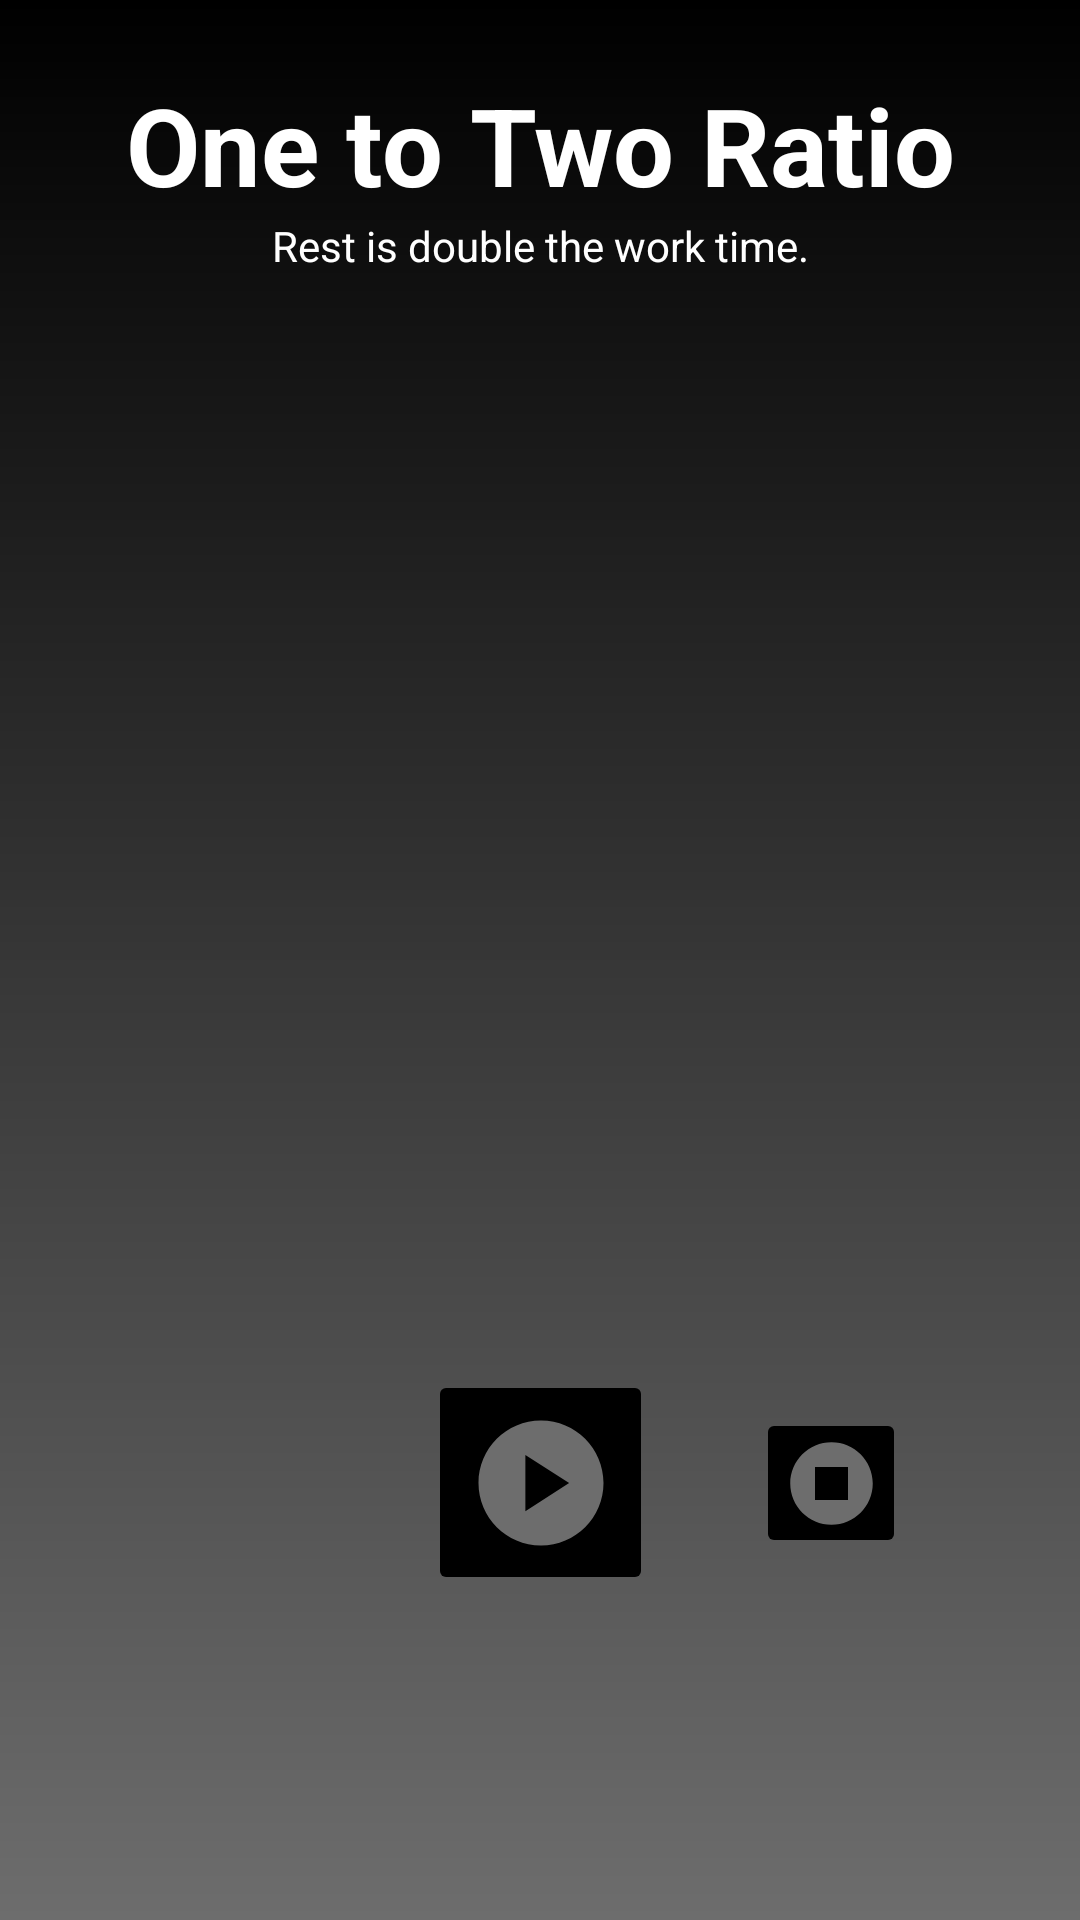

Point at icon controls on the screen. Image size 1080px x 1920px, points as (x,y).
play: (540,1482)
stop: (831,1483)
